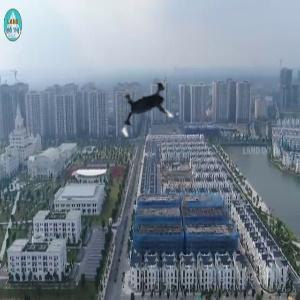drone: (108, 67, 191, 150)
